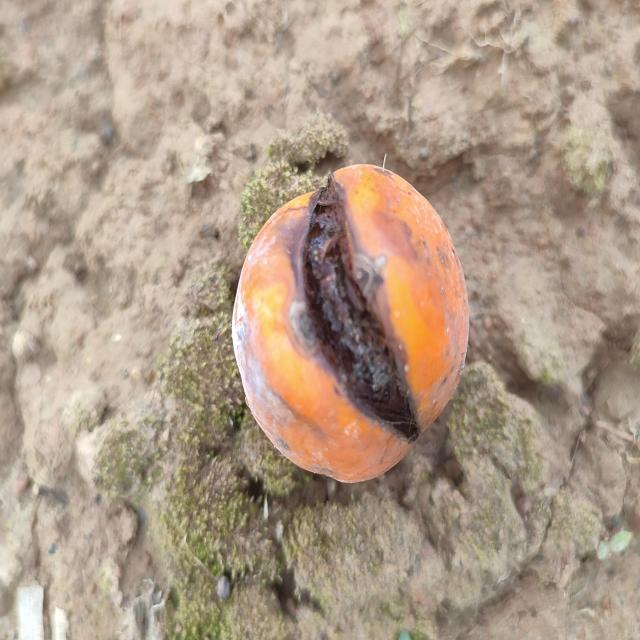damaged: (231, 166, 469, 487)
